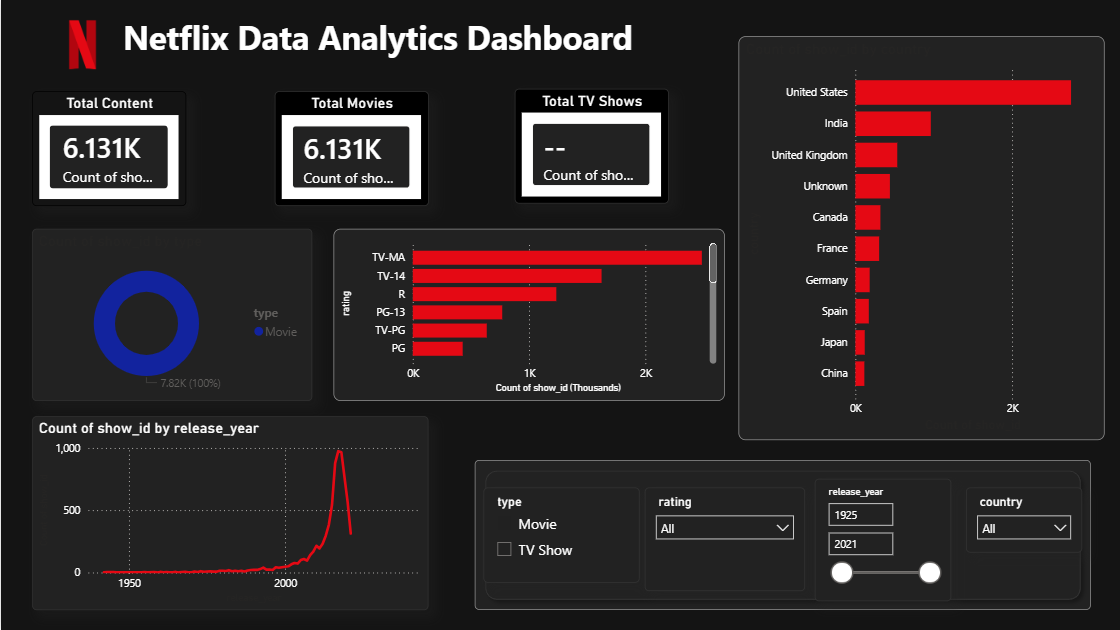

Layout of this report page (visuals, bound fields, positions):
{"tool":"powerbi","page":{"name":"Page 1","canvas":[1280,720],"ordinal":0},"visuals":[{"type":"shape","box":[541.4,525.7,704.3,171.4],"z":0},{"type":"cardVisual","title":"Total Content","fields":{"Data":["Count(cleaned_netflix_data.show_id)"]},"box":[35.7,104.3,175.7,131.4],"z":1000},{"type":"cardVisual","title":"Total Movies","fields":{"Data":["Count(cleaned_netflix_data.show_id)"]},"box":[312.9,104.3,175.7,131.4],"z":2000},{"type":"donutChart","fields":{"Category":["cleaned_netflix_data.type"],"Y":["CountNonNull(cleaned_netflix_data.show_id)"]},"box":[35.7,261.4,320,197.1],"z":3000},{"type":"clusteredBarChart","fields":{"Category":["cleaned_netflix_data.country"],"Y":["CountNonNull(cleaned_netflix_data.show_id)"]},"box":[842.9,41.4,418.6,461.4],"z":4000},{"type":"lineChart","fields":{"Category":["cleaned_netflix_data.release_year"],"Y":["CountNonNull(cleaned_netflix_data.show_id)"]},"box":[35.7,475.7,452.9,221.4],"z":5000},{"type":"clusteredBarChart","fields":{"Category":["cleaned_netflix_data.rating"],"Y":["CountNonNull(cleaned_netflix_data.show_id)"]},"box":[380,261.4,447.1,197.1],"z":6000},{"type":"slicer","fields":{"Values":["cleaned_netflix_data.type"]},"box":[551.4,557.1,178.6,108.6],"z":7000},{"type":"slicer","fields":{"Values":["cleaned_netflix_data.country"]},"box":[1102.9,557.1,132.9,74.3],"z":8000},{"type":"slicer","fields":{"Values":["cleaned_netflix_data.rating"]},"box":[735.7,557.1,182.9,118.6],"z":9000},{"type":"slicer","fields":{"Values":["cleaned_netflix_data.release_year"]},"box":[930,547.1,155.7,140],"z":10000},{"type":"textbox","box":[114.3,12.9,632.9,91.4],"z":11000},{"type":"cardVisual","title":"Total TV Shows","fields":{"Data":["Count(cleaned_netflix_data.show_id)"]},"box":[587.1,101.4,175.7,131.4],"z":12000},{"type":"image","box":[0,0,186,102],"z":12001}]}

Visuals, with their boxes in screenshot pixels (x1, y1, x2, y2), scaled from the page's 1280x720 canvas onto the 1120x630 screenshot:
shape: (474,460,1090,610)
"Total Content" cardVisual: (31,91,185,206)
"Total Movies" cardVisual: (274,91,428,206)
donutChart - cleaned_netflix_data.type x CountNonNull(cleaned_netflix_data.show_id): (31,229,311,401)
clusteredBarChart - cleaned_netflix_data.country x CountNonNull(cleaned_netflix_data.show_id): (738,36,1104,440)
lineChart - cleaned_netflix_data.release_year x CountNonNull(cleaned_netflix_data.show_id): (31,416,428,610)
clusteredBarChart - cleaned_netflix_data.rating x CountNonNull(cleaned_netflix_data.show_id): (332,229,724,401)
slicer - cleaned_netflix_data.type: (482,487,639,582)
slicer - cleaned_netflix_data.country: (965,487,1081,552)
slicer - cleaned_netflix_data.rating: (644,487,804,591)
slicer - cleaned_netflix_data.release_year: (814,479,950,601)
textbox: (100,11,654,91)
"Total TV Shows" cardVisual: (514,89,667,204)
image: (0,0,163,89)
